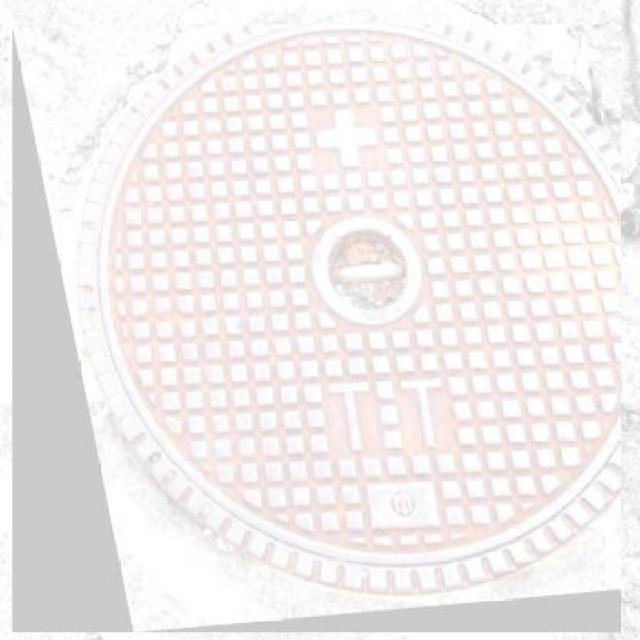Manhole: (12, 25, 620, 632)
